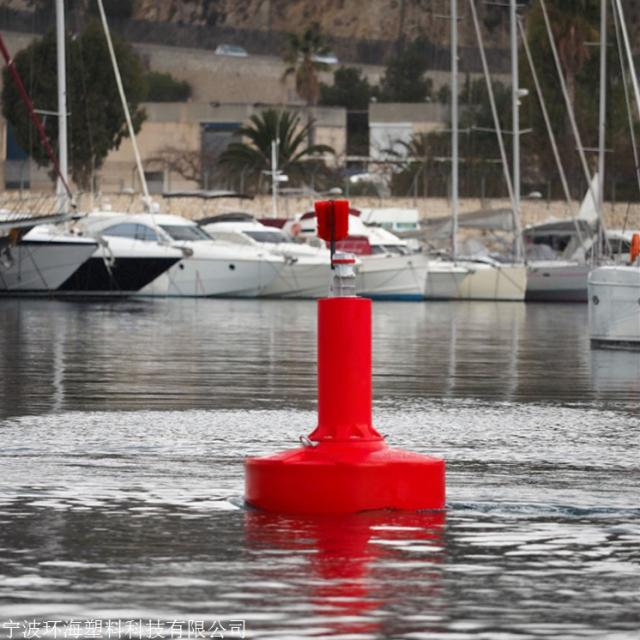buoy: (245, 188, 451, 514)
